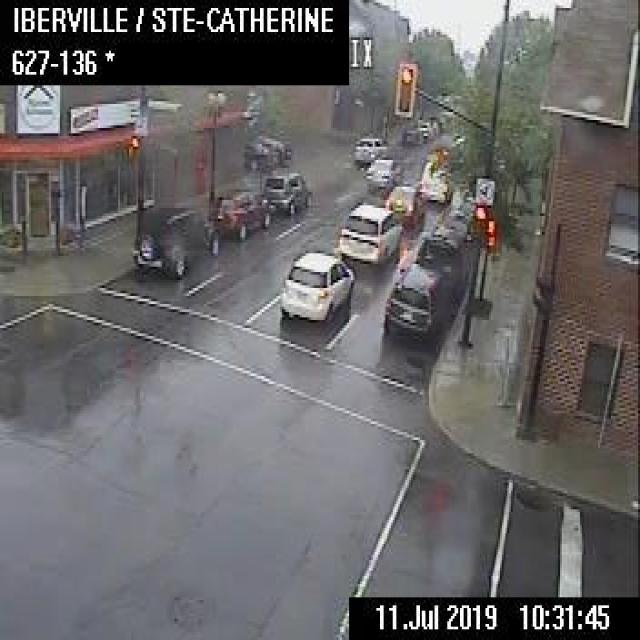vehicle: (130, 202, 220, 276), (382, 259, 449, 340), (280, 249, 353, 320), (338, 200, 402, 264), (413, 225, 468, 299), (210, 187, 275, 238), (261, 170, 311, 212), (419, 145, 452, 203), (436, 208, 476, 254), (383, 182, 425, 224), (363, 156, 401, 191), (252, 133, 290, 162), (351, 134, 386, 164), (242, 138, 273, 170), (401, 122, 422, 144), (415, 116, 432, 137), (427, 118, 437, 134)
